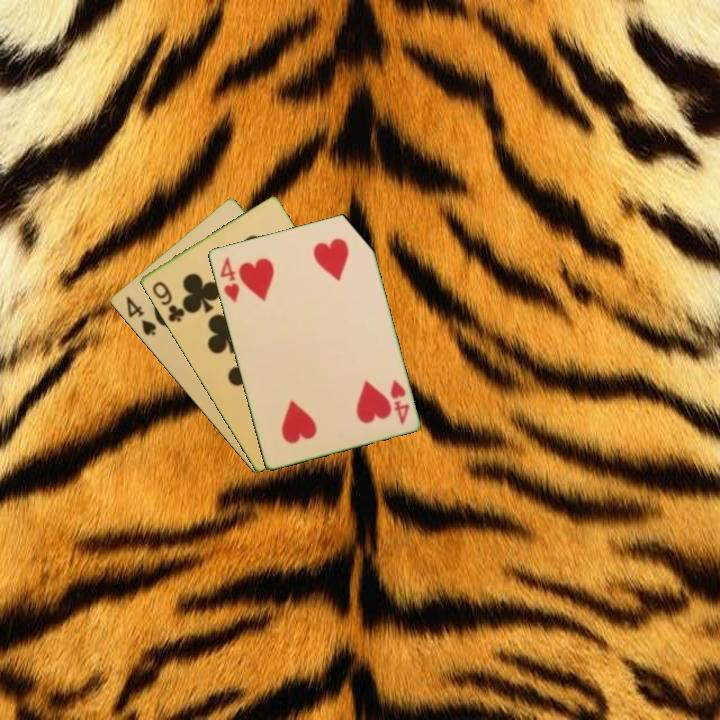4h: (216, 253, 242, 305), (386, 376, 412, 427)
4s: (122, 292, 159, 339)
9c: (148, 278, 187, 325)
